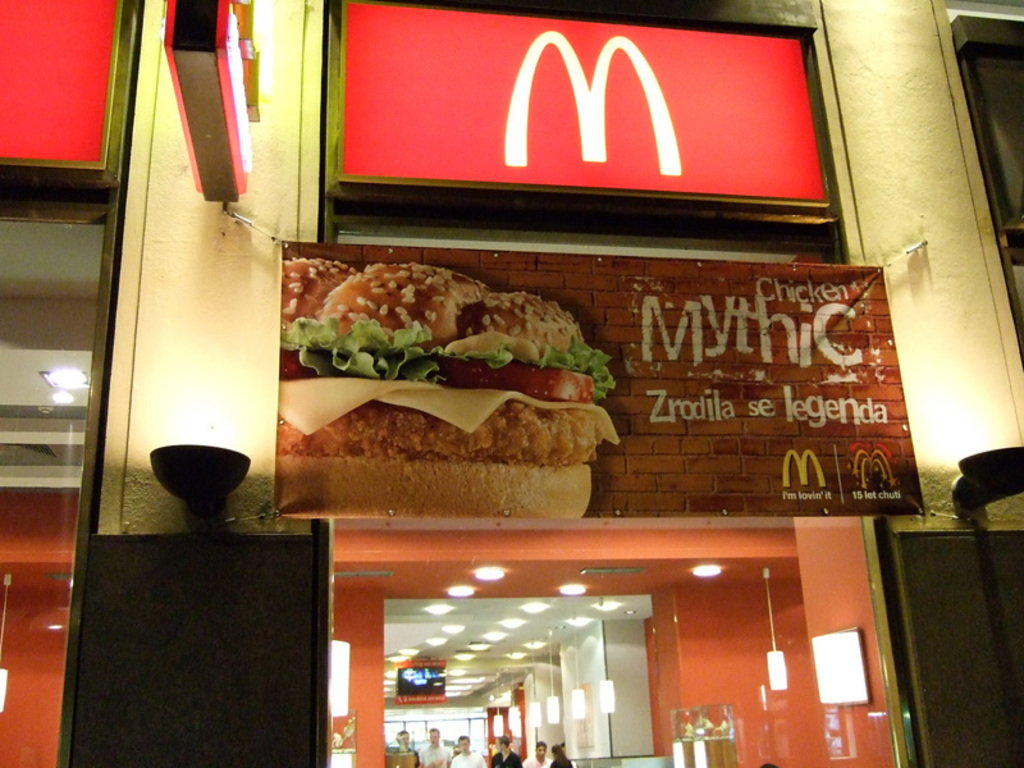Hamburger: (279, 257, 614, 520)
